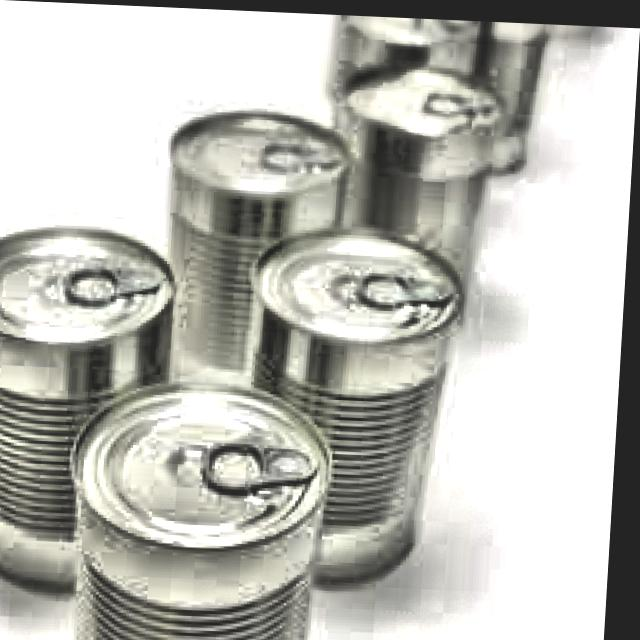can: (234, 213, 477, 591), (63, 360, 348, 640), (0, 212, 192, 602), (154, 100, 359, 396), (323, 54, 503, 319)
